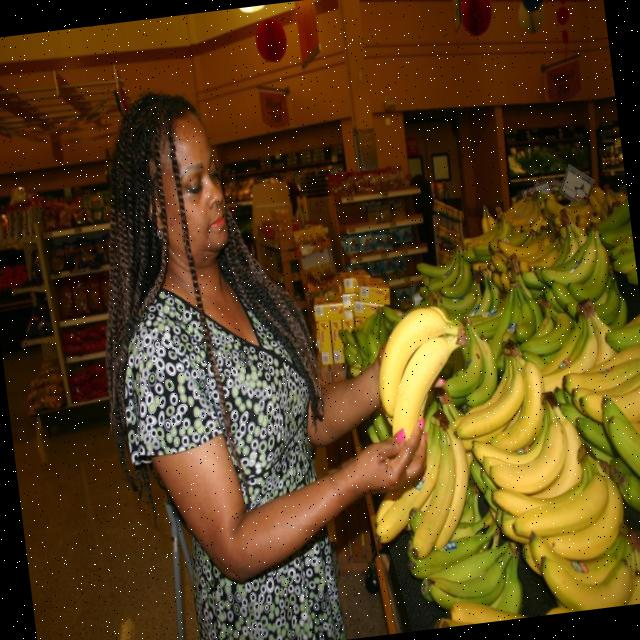banana: (393, 334, 460, 441), (469, 363, 545, 454), (484, 411, 565, 489)
